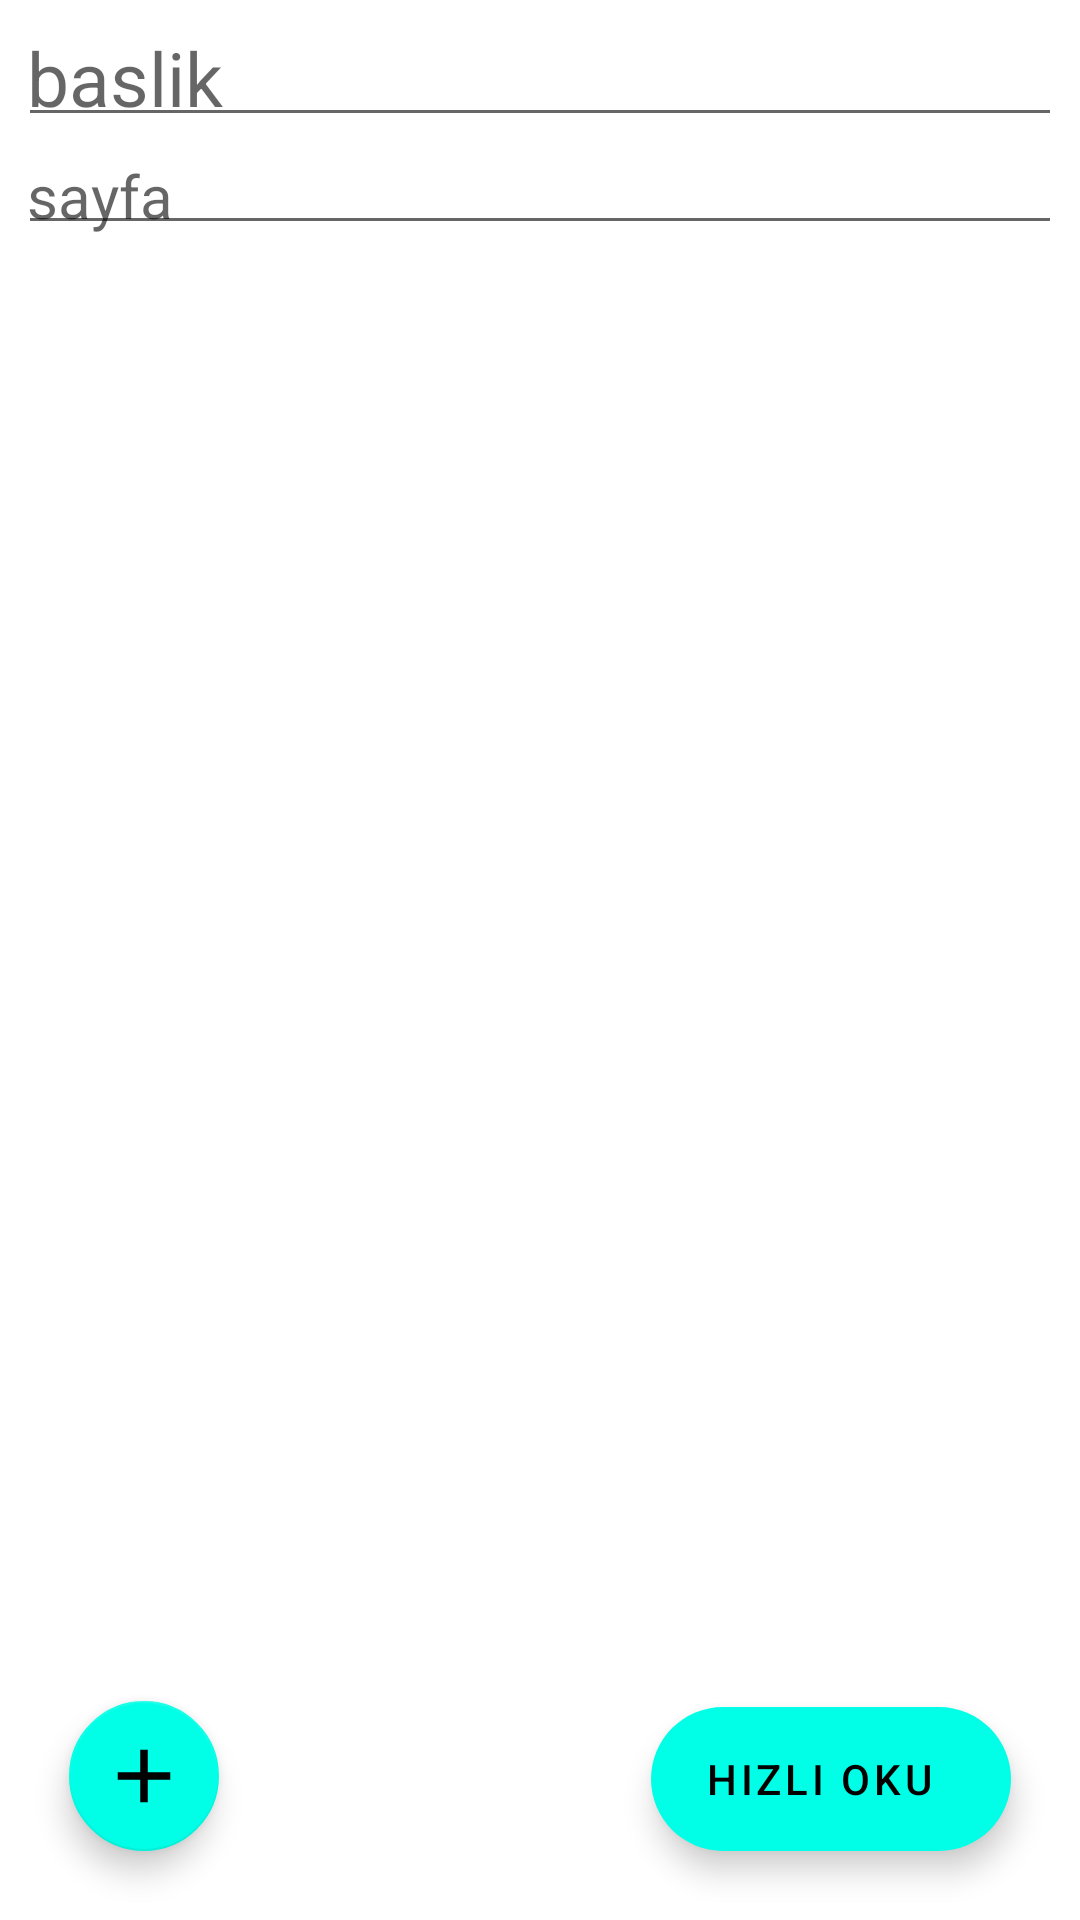

Icons on this 1080 × 1920 Android screen, each with its box as (x1, y1, x2, y2):
add: (69, 1701, 219, 1851)
